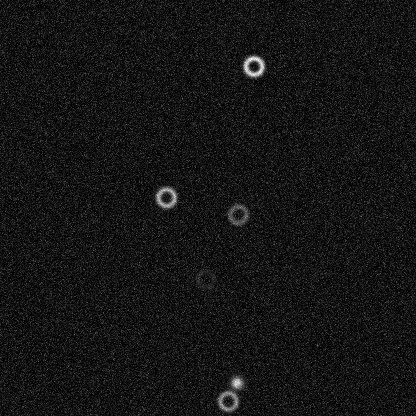Ring: (193, 267, 217, 291), (241, 54, 265, 78), (225, 202, 249, 226), (154, 185, 178, 209), (215, 388, 239, 412)
Spot: (228, 374, 244, 390)
